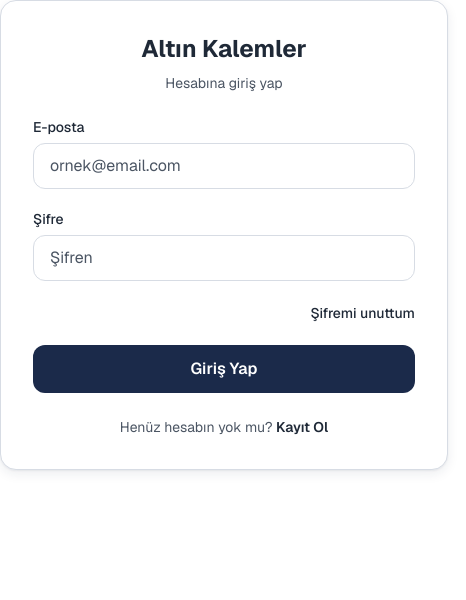
LoginPage › kalıcı izin hatasında yönlendirme yok, güvenli Türkçe durum ve ham hata sızıntısı yok
Type "reviewer@example.com" into the field labelled "E-posta".
click(224, 166); type("reviewer@example.com")  # box [33,143,415,189]
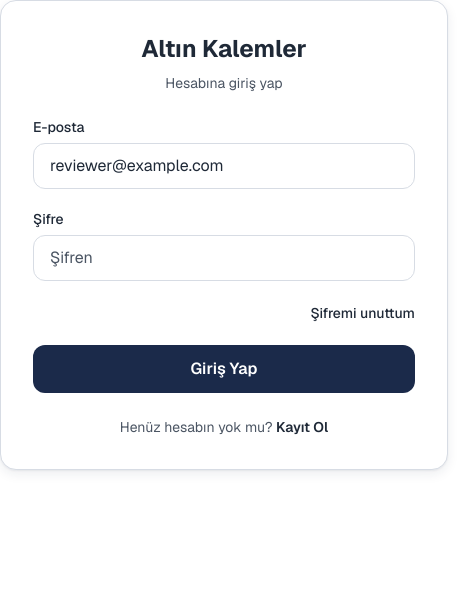
Type "securepass1" into the password field labelled "Şifre".
click(224, 258); type("securepass1")  # box [33,235,415,281]
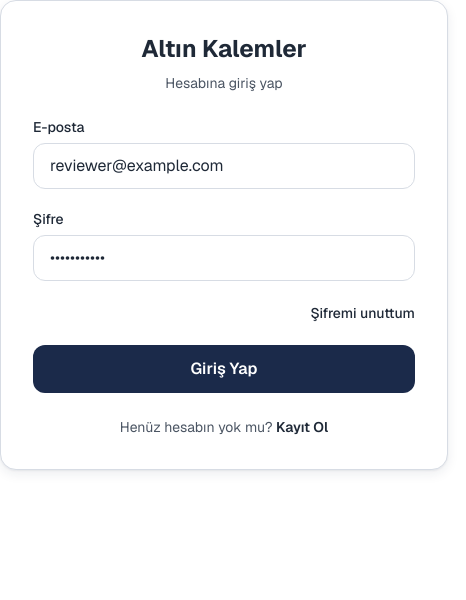
Click the button "Giriş Yap".
click(224, 369)  # box [33,345,415,393]
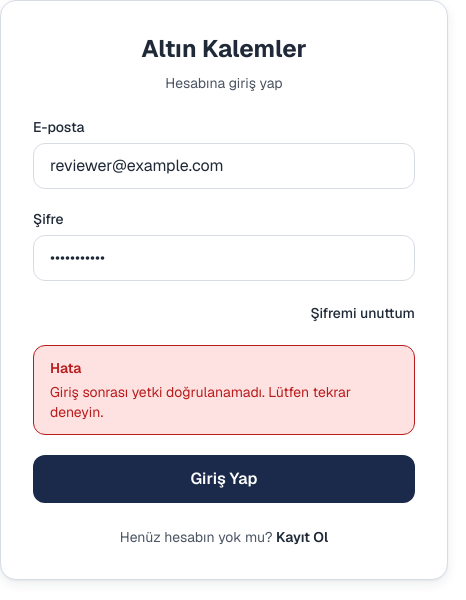
Result: the text "Giriş sonrası yetki doğrulanamadı. Lütfen tekrar deneyin." is shown at [50,382,398,422]
